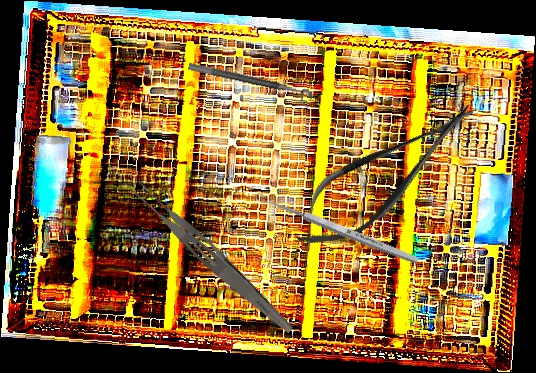Dressing Forceps: (126, 176, 301, 338)
Fixation Ring: (185, 61, 314, 110)
Micro Scissor: (278, 84, 493, 267)
Surgical Spoon: (255, 190, 420, 267)
